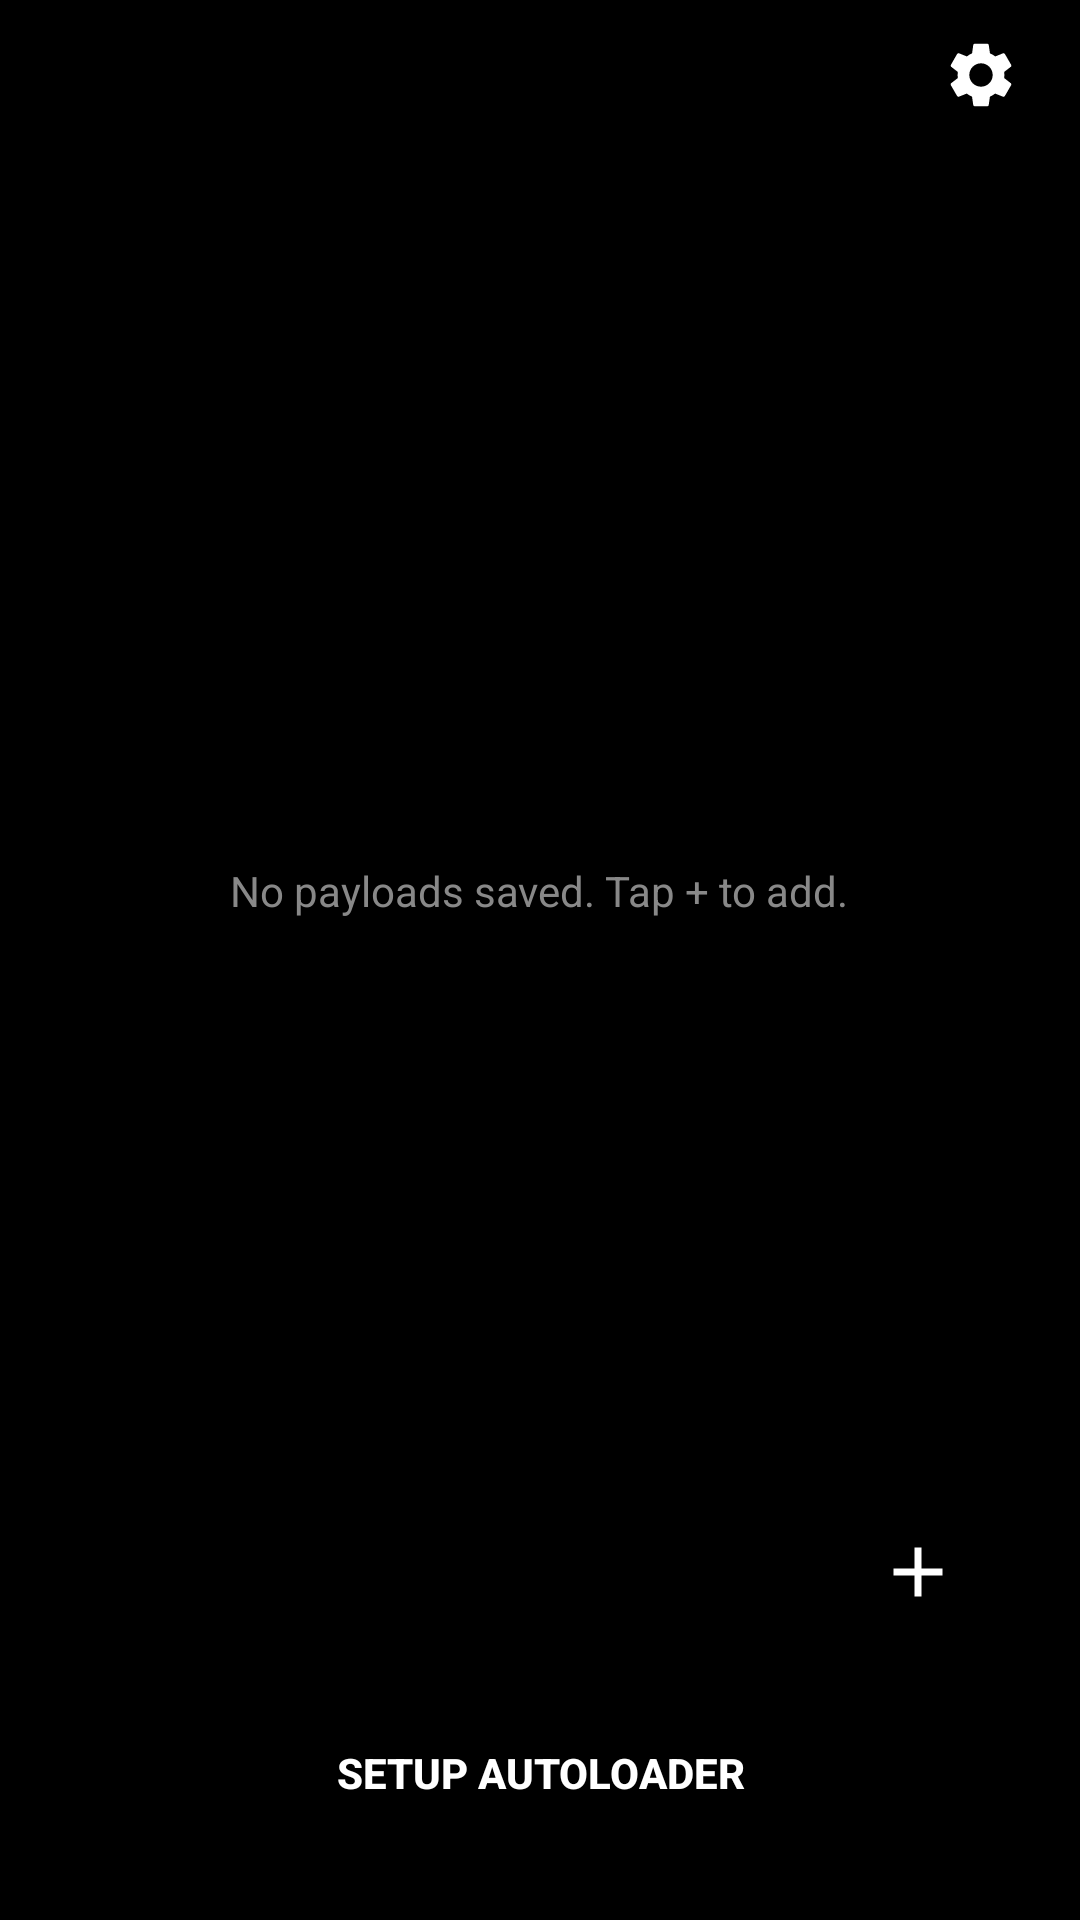

Named icons in this screenshot (1080*1920) and their centers, (x,y):
Add payload: (918,1572)
Settings: (981,75)
